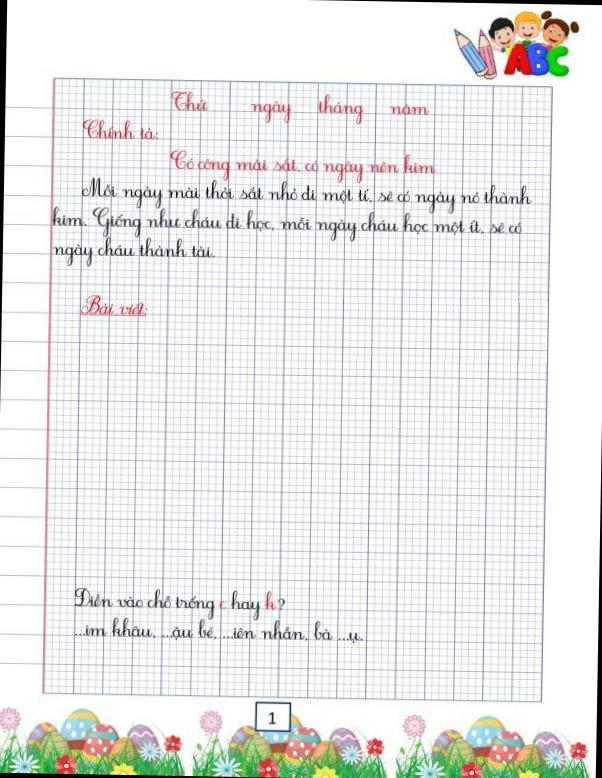text: (49, 203, 527, 251), (72, 174, 533, 220), (165, 144, 439, 186), (80, 614, 367, 646), (71, 583, 288, 623), (47, 234, 216, 272), (76, 116, 162, 144), (74, 292, 150, 320), (314, 94, 365, 126), (247, 97, 295, 126), (167, 89, 211, 115), (385, 100, 432, 120), (264, 712, 280, 726)
